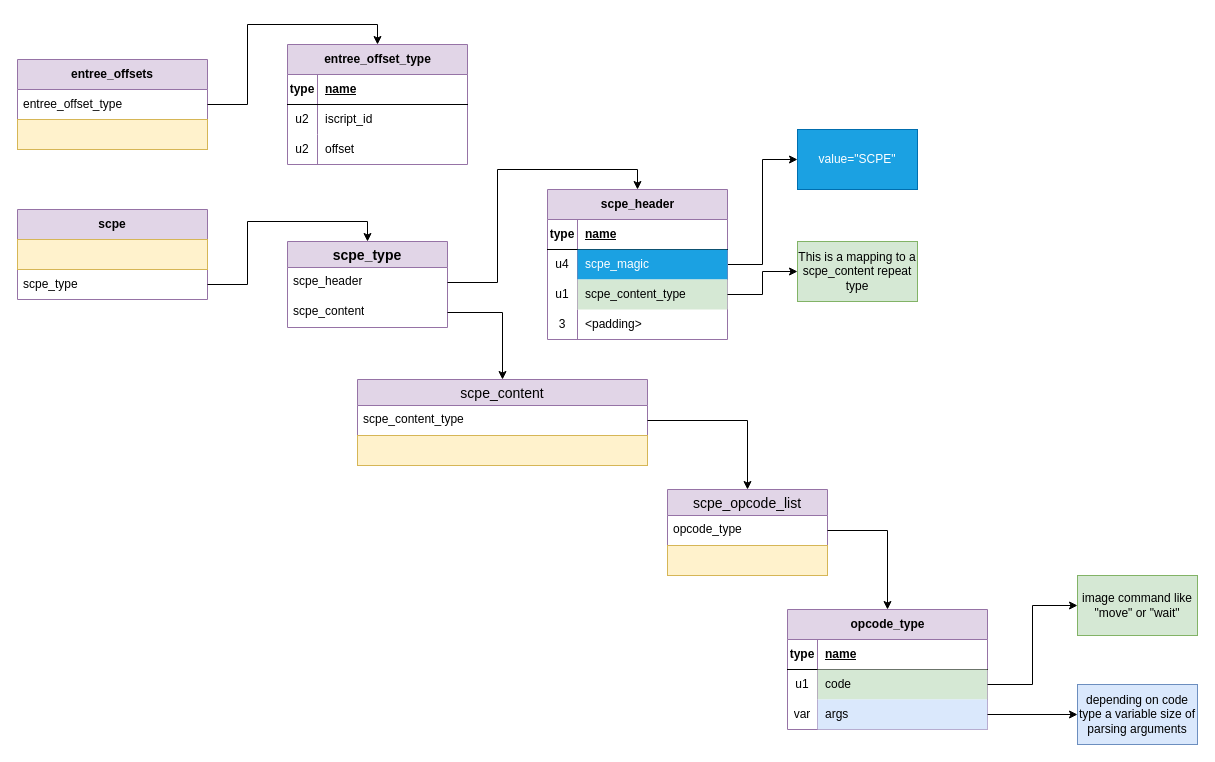
Some shapes in this 1215 by 762 pixel diagram are drawn without their labels. The shapes that lost their labels are listed below. From the top down, each one's box as (x1, y1, x2, y2) in pixels, then its label:
(16, 118, 208, 150): repeat until iscript_id == 0xFFFF
(16, 238, 208, 270): size=num_entree_offsets
(356, 434, 648, 466): repeat based on scpe_header. scpe_content_type
(666, 544, 828, 576): repeat until opcode=goto
